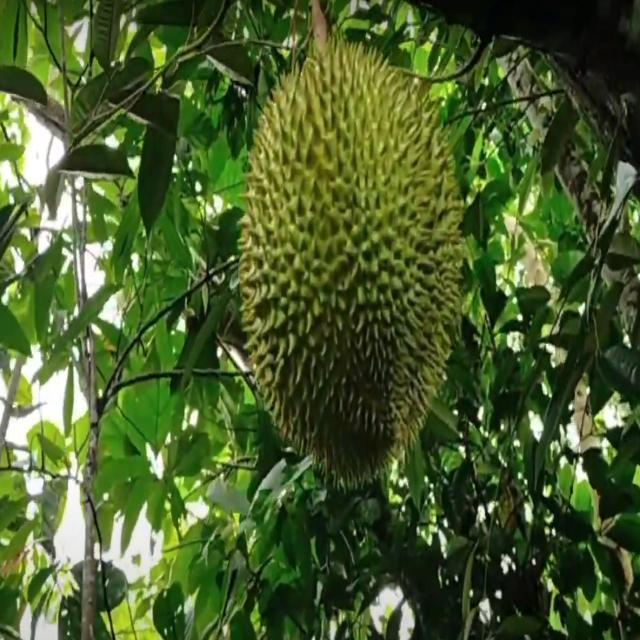immature: (238, 39, 466, 483)
